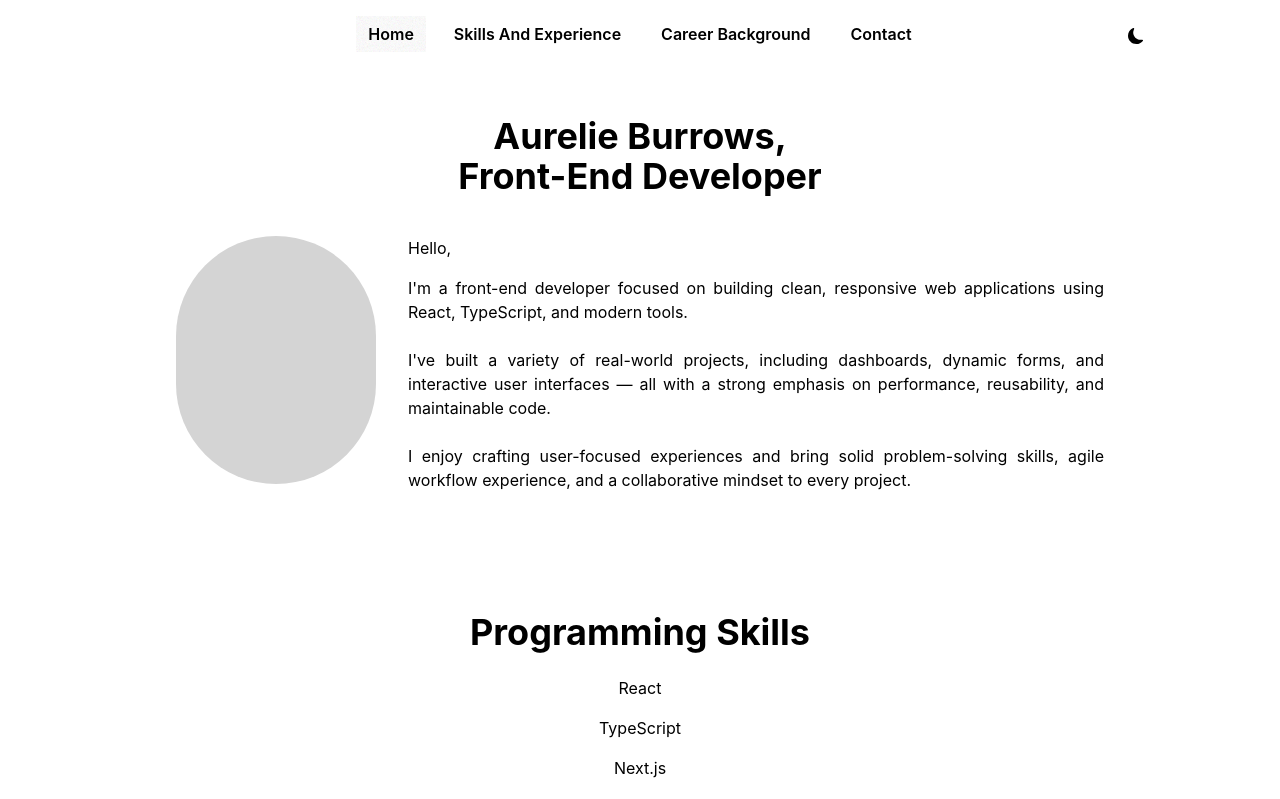
Test case: App flows (integration) › theme toggle sets data-theme and persists while navigating
The image size is (1280, 799).
Step 1. Click the checkbox named "toggle dark mode" → (1136,36), box [1128, 28, 1144, 44]
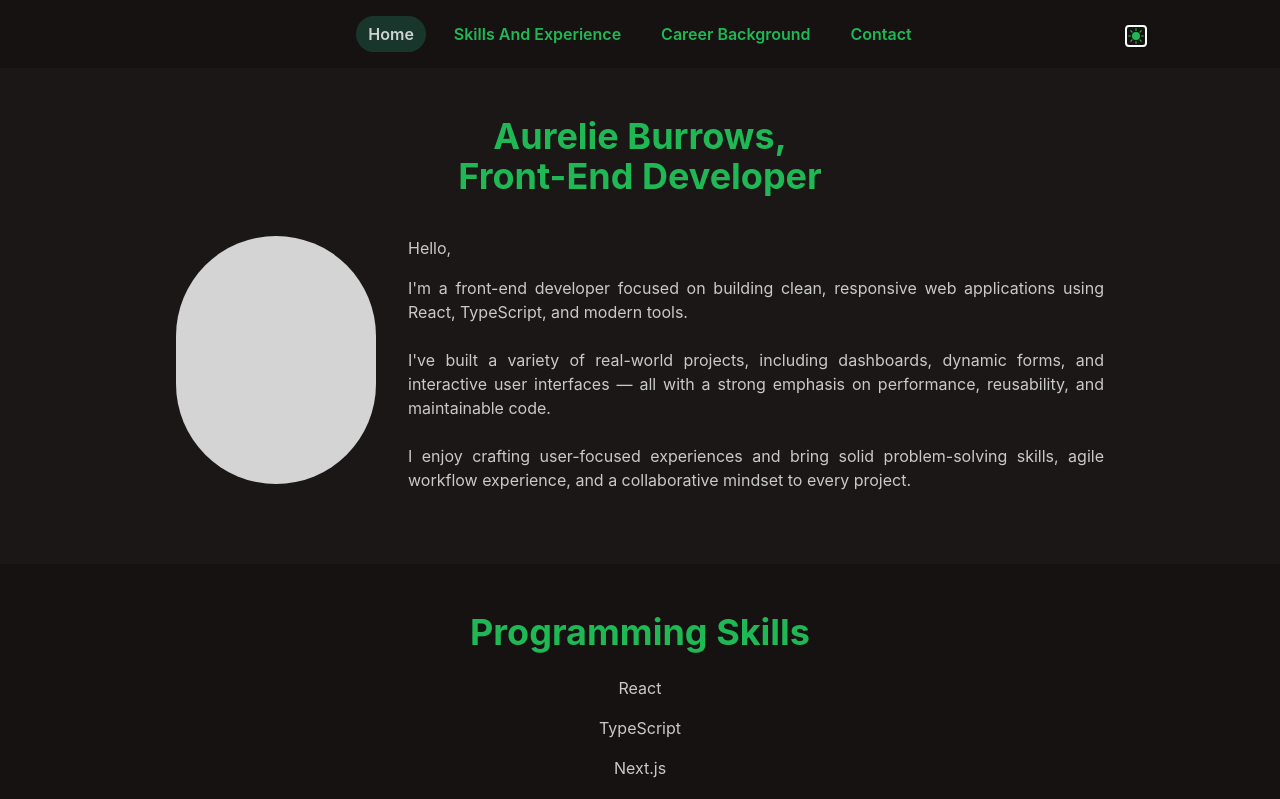
Step 2. Click the link "Contact" → (881,34), box [850, 24, 912, 44]
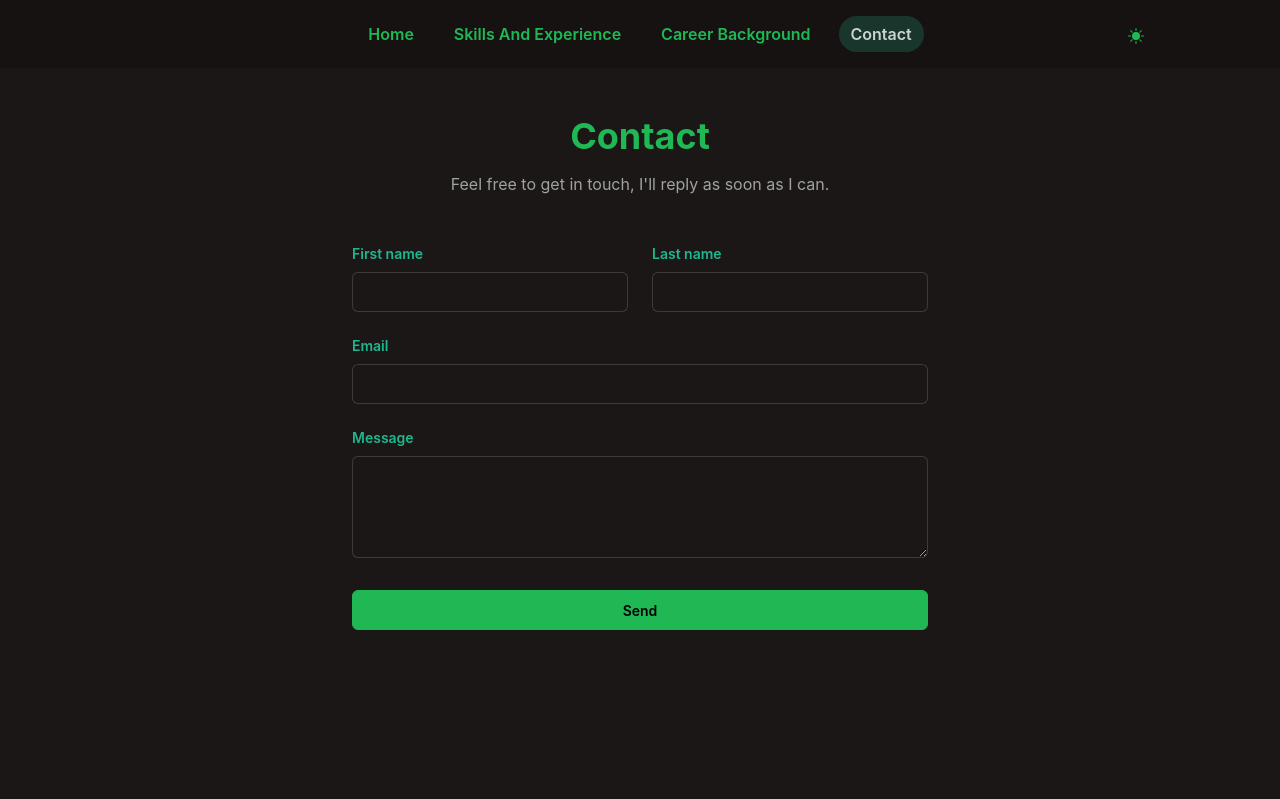
Expected: the heading "Contact" is shown, [570, 114, 710, 158]
